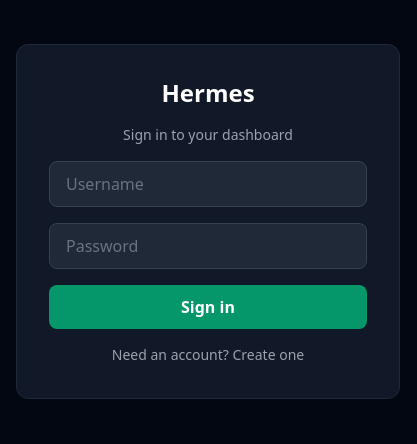
Test: Login › register mode creates the account and shows the approval notice
Click the button "Need an account? Create one" at (208, 354), box [49, 344, 367, 364]
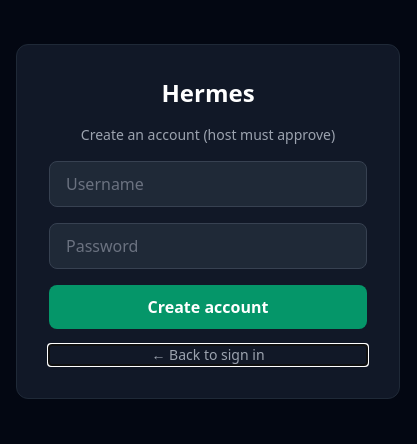
Type "newbie" into the field labelled "Username" at (208, 184), box [49, 160, 367, 206]
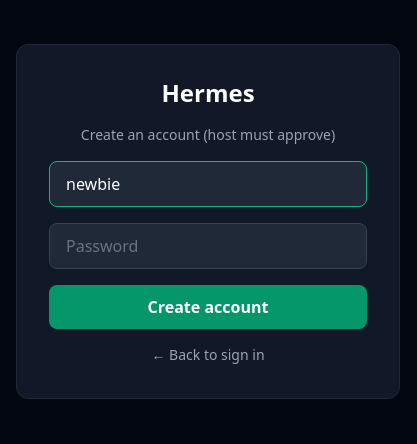
Type "pw" into the password field labelled "Password" at (208, 246), box [49, 222, 367, 268]
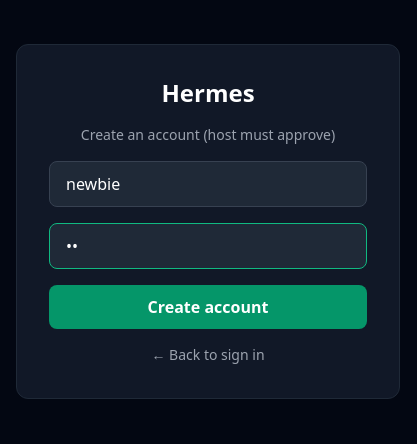
Click the button "Create account" at (208, 306), box [49, 284, 367, 328]
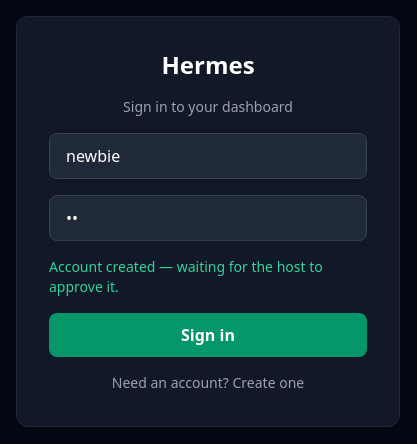
Now the message shows "waiting for the host", box [49, 256, 323, 296]
